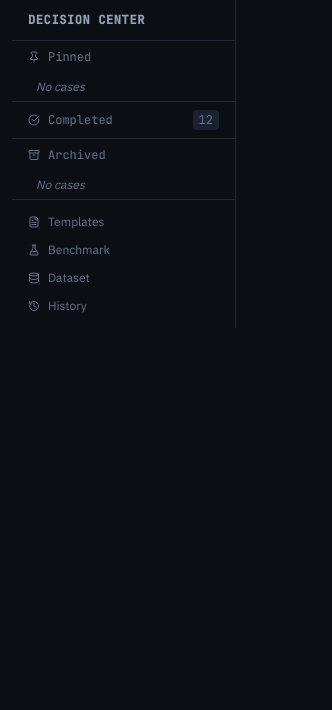
Test: LeftNav › paginates the Completed section when many cases are resolved
Check: the text "12" is shown, box [193,110,219,130]
Check: the text "Question 0" is not shown
Step 1. Click the button → [124, 120], box [12,102,235,138]
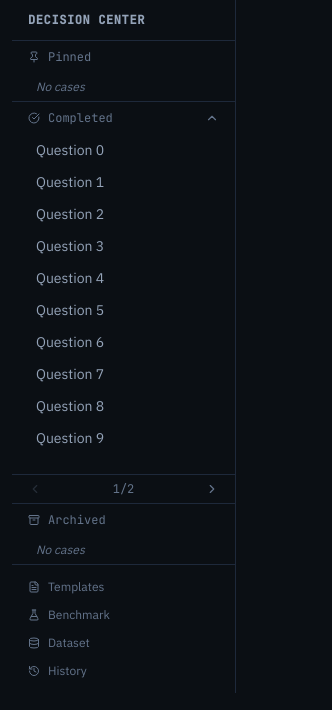
Check: the text "Question 10" is not shown
Check: the text "1/2" is shown, box [113,481,134,497]
Check: the link "Question 0" is shown, box [36,141,104,159]
Step 2. Click the button named "Next Completed page" → [212, 489], box [205,482,219,496]
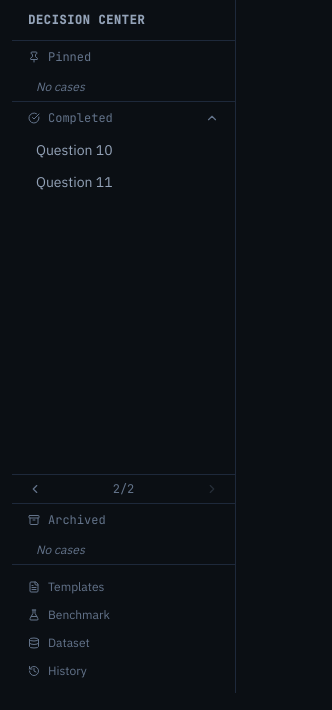
Check: the link "Question 10" is shown, box [36,141,113,159]
